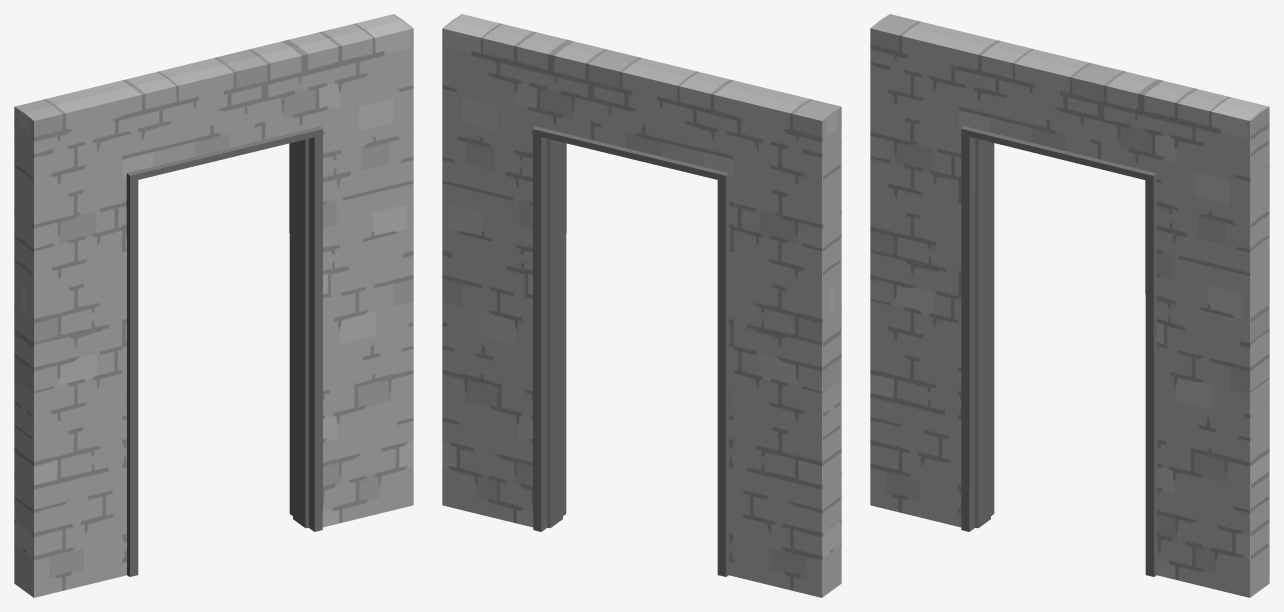
The model's file is SM_Bld_Base_Wall_Door_Large_01_416.obj.
The picture shows the model from 3 angles, left to right: view 1: azimuth 30°, elevation 25°; view 2: azimuth 150°, elevation 25°; view 3: azimuth 330°, elevation 25°; orthographic projection.
Parts seen in each view (by area): view 1: SM_Bld_Base_Wall_Door_Large_01_2, SM_Bld_Base_Wall_Door_Large_01_1, SM_Bld_Base_Wall_Door_Large_01_0; view 2: SM_Bld_Base_Wall_Door_Large_01_0, SM_Bld_Base_Wall_Door_Large_01_1, SM_Bld_Base_Wall_Door_Large_01_2; view 3: SM_Bld_Base_Wall_Door_Large_01_2, SM_Bld_Base_Wall_Door_Large_01_1, SM_Bld_Base_Wall_Door_Large_01_0.
Boxes of the visible parts, left/top/right/bottom form: SM_Bld_Base_Wall_Door_Large_01_2: left=24, top=20, right=413, bottom=597; SM_Bld_Base_Wall_Door_Large_01_1: left=126, top=126, right=322, bottom=576; SM_Bld_Base_Wall_Door_Large_01_0: left=14, top=14, right=403, bottom=590; SM_Bld_Base_Wall_Door_Large_01_0: left=442, top=20, right=831, bottom=597; SM_Bld_Base_Wall_Door_Large_01_1: left=533, top=126, right=729, bottom=576; SM_Bld_Base_Wall_Door_Large_01_2: left=452, top=14, right=841, bottom=590; SM_Bld_Base_Wall_Door_Large_01_2: left=870, top=20, right=1259, bottom=597; SM_Bld_Base_Wall_Door_Large_01_1: left=961, top=126, right=1156, bottom=576; SM_Bld_Base_Wall_Door_Large_01_0: left=880, top=14, right=1269, bottom=590.
Bounding box in the file's own units: 2.5 × 3.01 × 0.288.
Materials: 3 (3 with a texture image).
